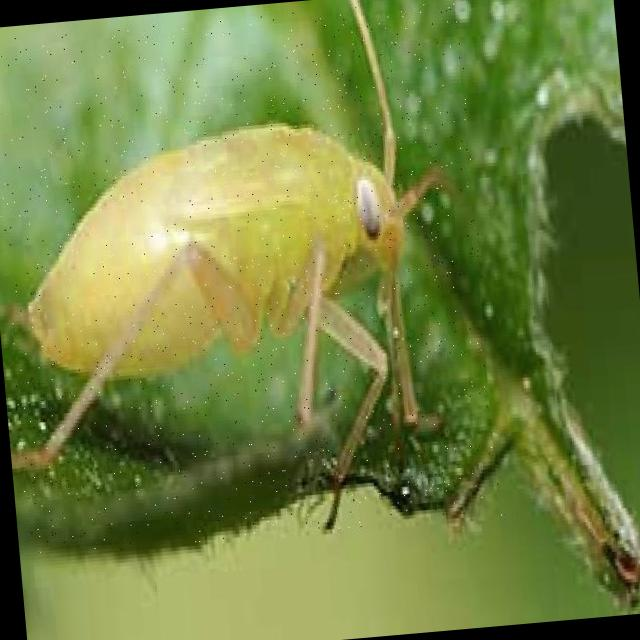aphid: (0, 0, 503, 558)
